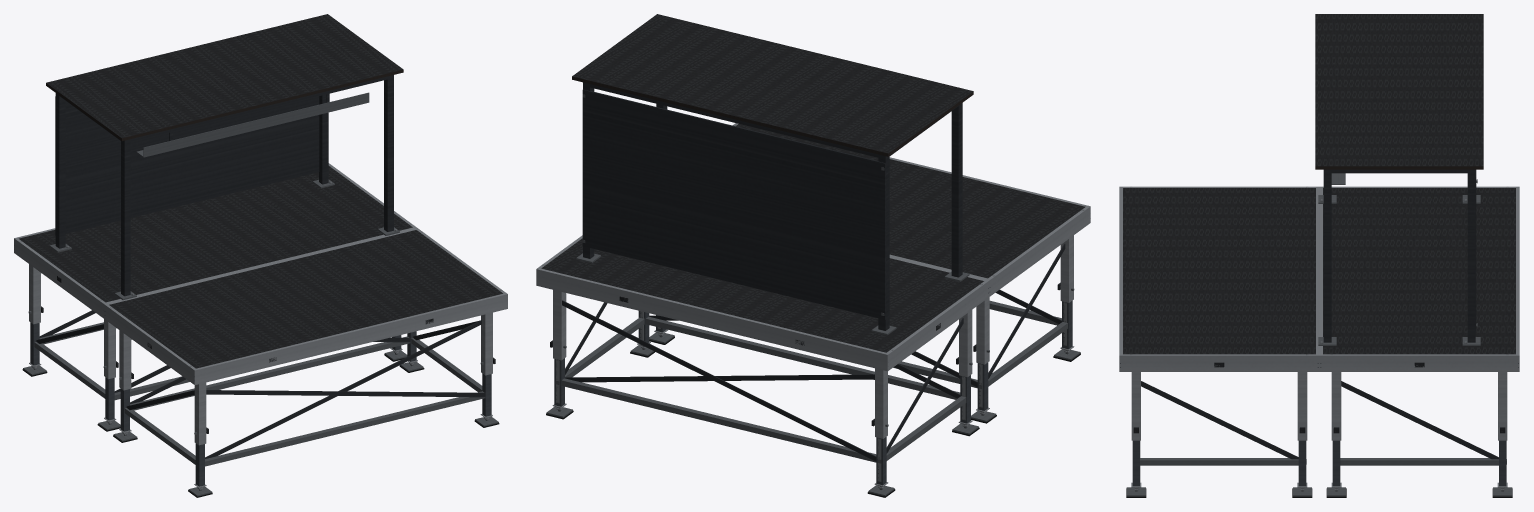
File: dj_platform_2x2_h080.obj
3 views of the same model, side by side, from view 1: azimuth 30°, elevation 25°; view 2: azimuth 150°, elevation 25°; view 3: azimuth 270°, elevation 25° (orthographic). The views are drawn at different scales.
Visible parts, largest first — view 1: part_1234, part_4, part_2812, part_2815, part_1273, part_2875, part_1311, part_2263, part_81, part_2257, part_2251, part_2809 (+13 smaller); view 2: part_2814, part_2812, part_4, part_1234, part_6, part_1311, part_942, part_81, part_948, part_930, part_1014, part_2808 (+7 smaller); view 3: part_1234, part_4, part_2812, part_1334, part_104, part_2618, part_2660, part_1124, part_2354, part_1142, part_2372, part_818 (+9 smaller).
Boxes of the visible parts, x1,y1,x2,y2 form: part_1234: (109,230,502,368); part_4: (19,166,412,302); part_2812: (46,14,403,138); part_2815: (65,96,319,233); part_1273: (194,294,507,384); part_2875: (143,93,369,156); part_1311: (104,305,194,383); part_2263: (206,390,485,397); part_81: (14,239,103,317); part_2257: (205,320,481,458); part_2251: (205,397,484,465); part_2809: (122,69,403,140); part_2814: (582,90,884,319); part_2812: (572,14,973,153); part_4: (541,238,983,352); part_1234: (736,124,1085,278); part_6: (536,269,887,370); part_1311: (989,207,1090,295); part_942: (562,301,876,461); part_81: (888,281,988,370); part_948: (564,374,874,382); part_930: (561,381,875,461); part_1014: (645,319,957,399); part_2808: (572,76,888,156); part_1234: (1123,188,1315,354); part_4: (1323,188,1515,354); part_2812: (1315,14,1483,166); part_1334: (1120,355,1318,371); part_104: (1320,355,1518,371); part_2618: (1467,169,1475,342); part_2660: (1323,169,1331,342); part_1124: (1340,460,1498,465); part_2354: (1140,460,1298,465); part_1142: (1341,381,1498,459); part_2372: (1141,381,1298,459); part_818: (1331,372,1341,440).
Size of the model in its own units: 2 by 1.8 by 2.
3 materials, 3 textured.
